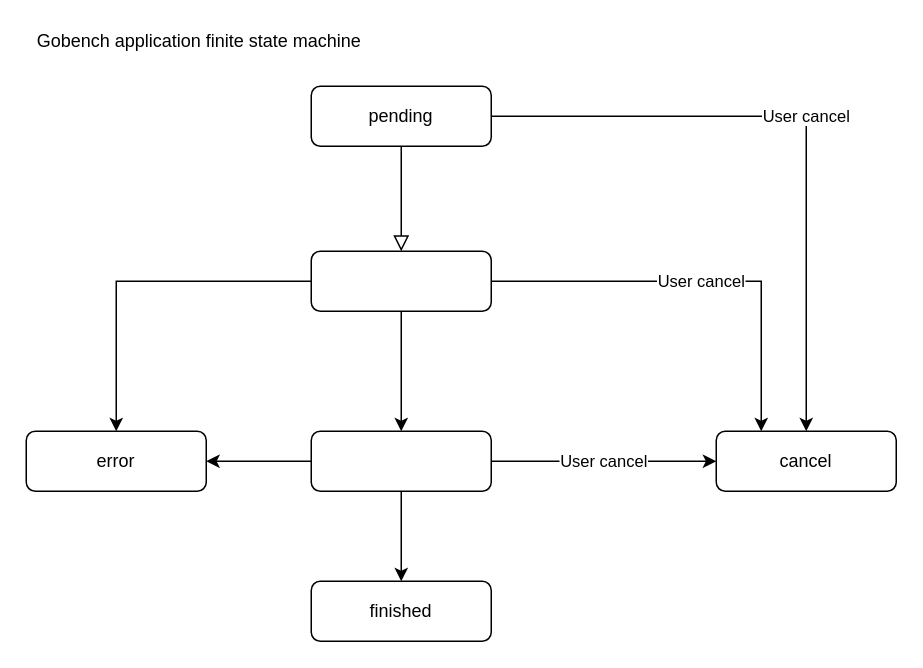
Image size: 923x668. Some labels were removed from this diagram. The shapes that lost their labels are listed below. From the top down, each one's centre as x and y in pixels, then its label:
At point (400, 280): "provisioning".
At point (400, 460): "running".
